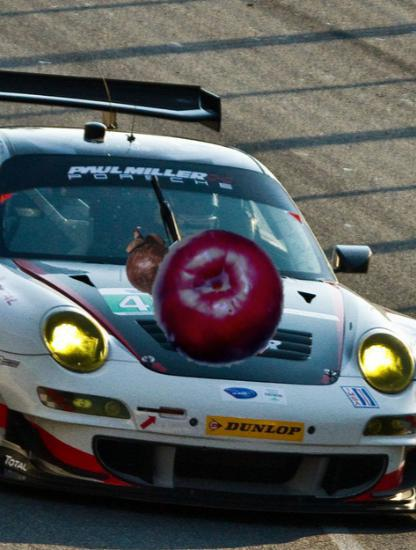Mangostan: (115, 226, 184, 295)
Plum: (148, 227, 289, 368)
